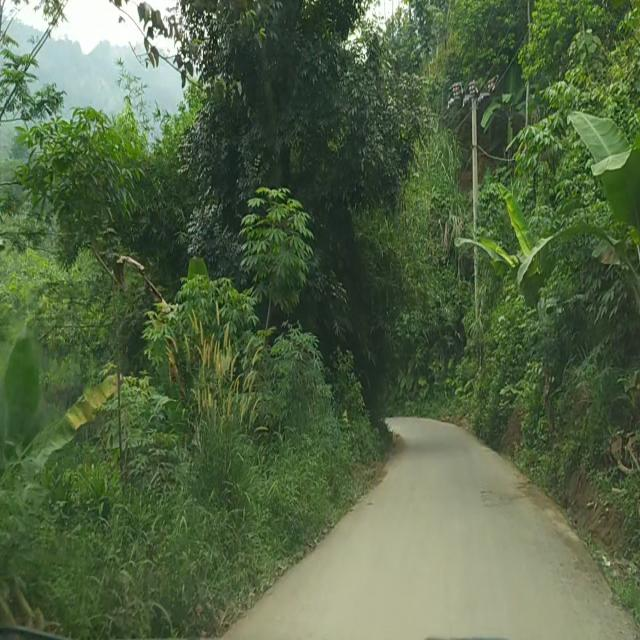Drain Hole: (479, 481, 521, 515)
